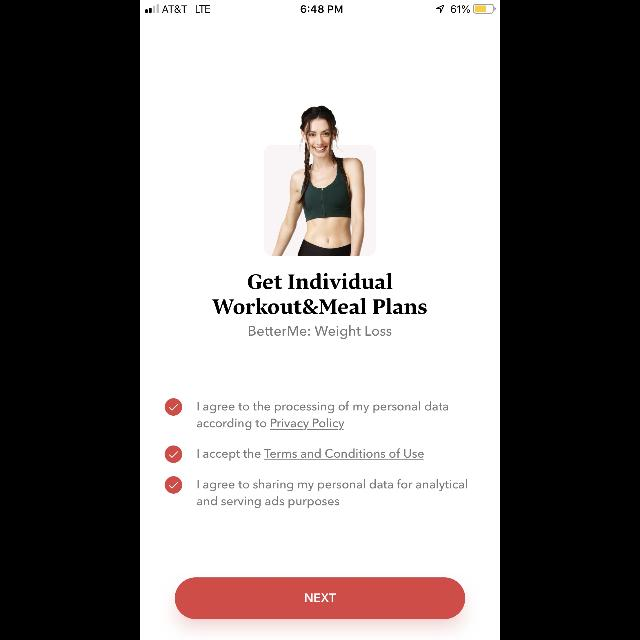checkbox: (164, 398, 182, 416), (164, 476, 182, 494), (164, 446, 182, 462)
image: (264, 106, 376, 256)
text: (212, 274, 428, 314), (197, 479, 467, 508), (197, 402, 448, 431), (198, 448, 424, 460), (248, 325, 392, 339)
textbutton: (175, 577, 465, 619)
uppertaskbar: (140, 0, 500, 14)
